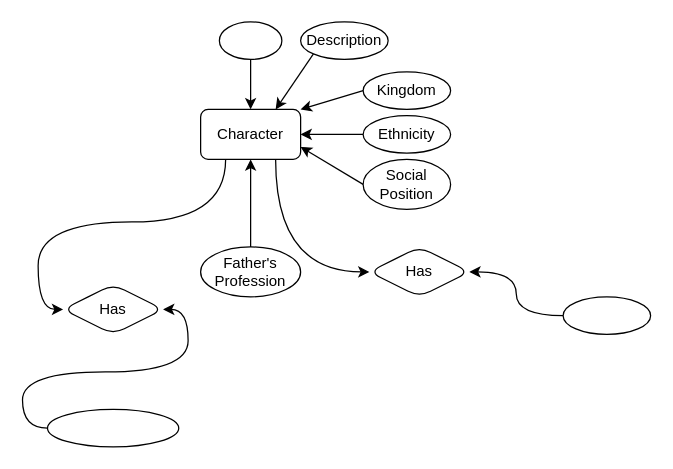
The diagram is 673 pixels wide and 469 high, and some of its shapes have lost their labels. Here are the shapes that lost their labels. From the top down, the centre of each, then its label:
(x=250, y=40): Name
(x=606, y=315): Profession
(x=112, y=427): Characteristics
